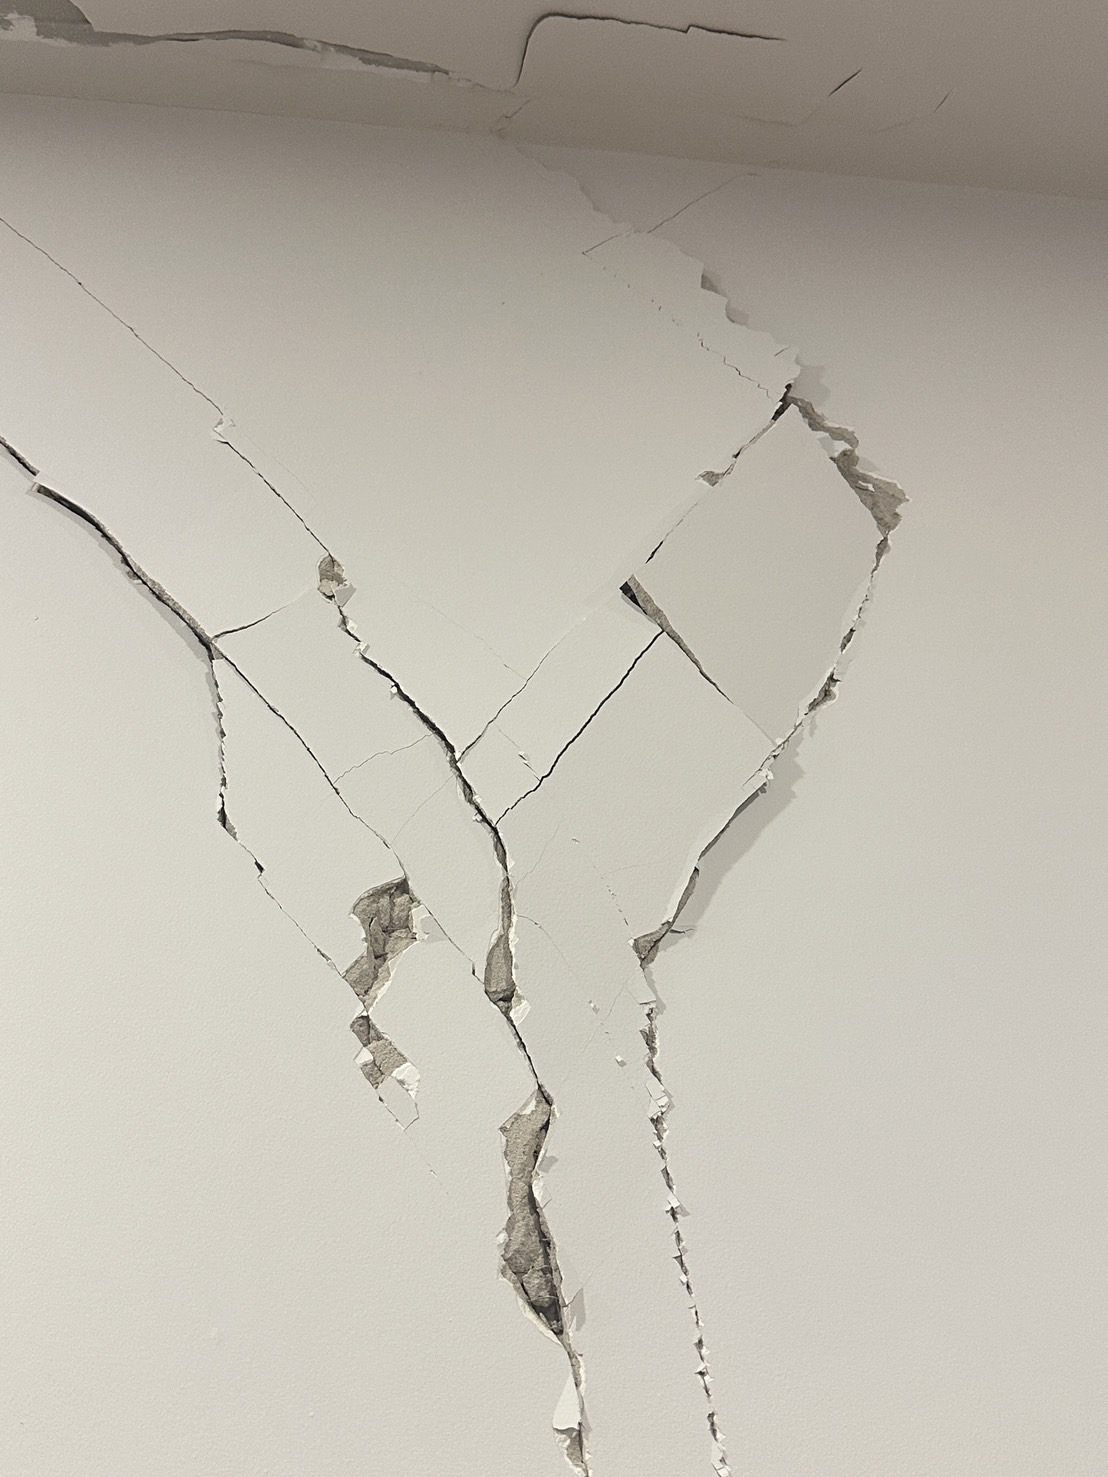Medium: (34, 429, 574, 1045)
